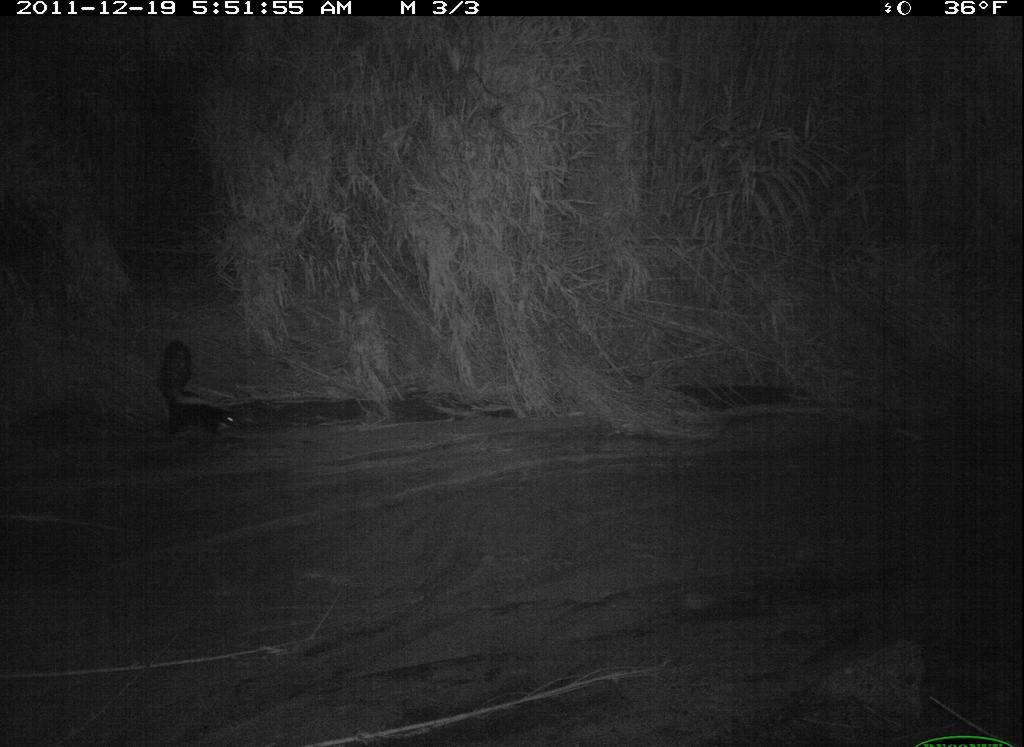skunk: (131, 327, 263, 446)
